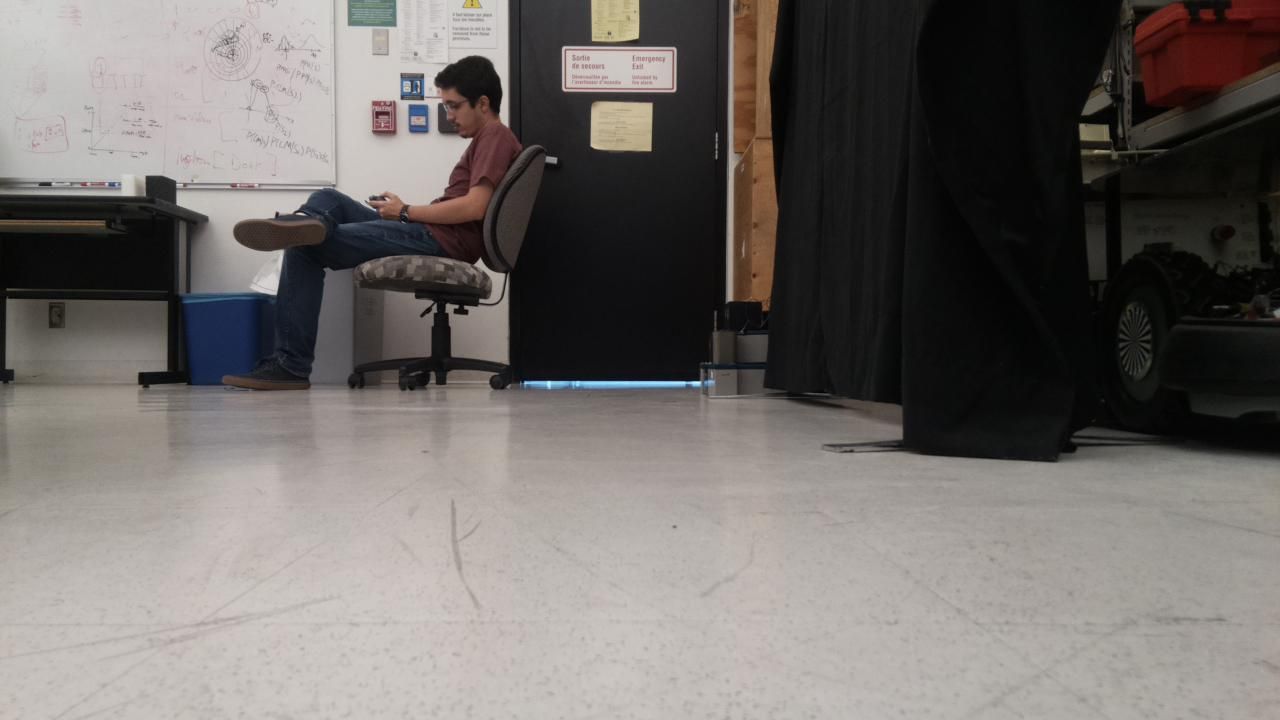door: (519, 0, 717, 380)
person: (223, 56, 524, 390)
sign: (563, 47, 674, 90), (448, 0, 495, 47)
